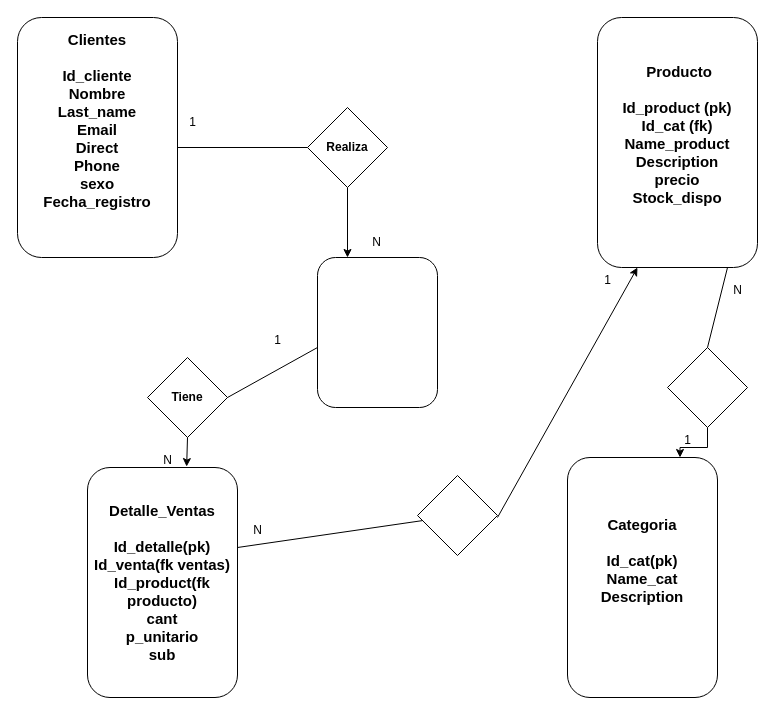
This 775x715 diagram has some shape labels left out. The shapes that lost their labels are listed below. From the top down, each one's box as (x1, y1, x2, y2) in pixels, then its label:
(316, 256, 438, 408): Ventas Id_venta(pk) Id_cliente(fk) total Fecha_venta
(666, 346, 748, 428): Contiene
(416, 474, 498, 556): Asociado
